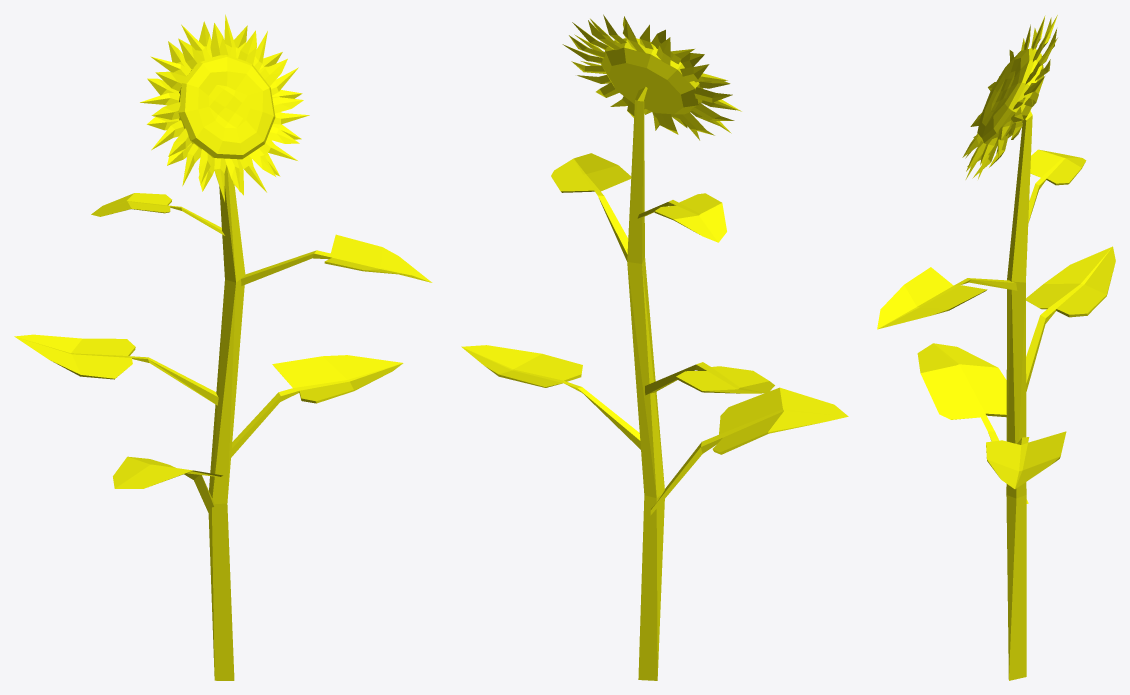
File: flower_e.glb
3 renders of one model, left to right at view 1: azimuth 30°, elevation 25°; view 2: azimuth 150°, elevation 25°; view 3: azimuth 270°, elevation 25°, orthographic. The views are drawn at different scales.
Parts seen in each view (by area): view 1: SM_Sunflower_LOD0; view 2: SM_Sunflower_LOD0; view 3: SM_Sunflower_LOD0.
Part boxes in pixels (<box>): SM_Sunflower_LOD0: <box>14,14,432,680</box>; SM_Sunflower_LOD0: <box>461,14,848,680</box>; SM_Sunflower_LOD0: <box>877,15,1115,680</box>.
Size of the model in its own units: 0.9488 by 1.72 by 0.5697.
